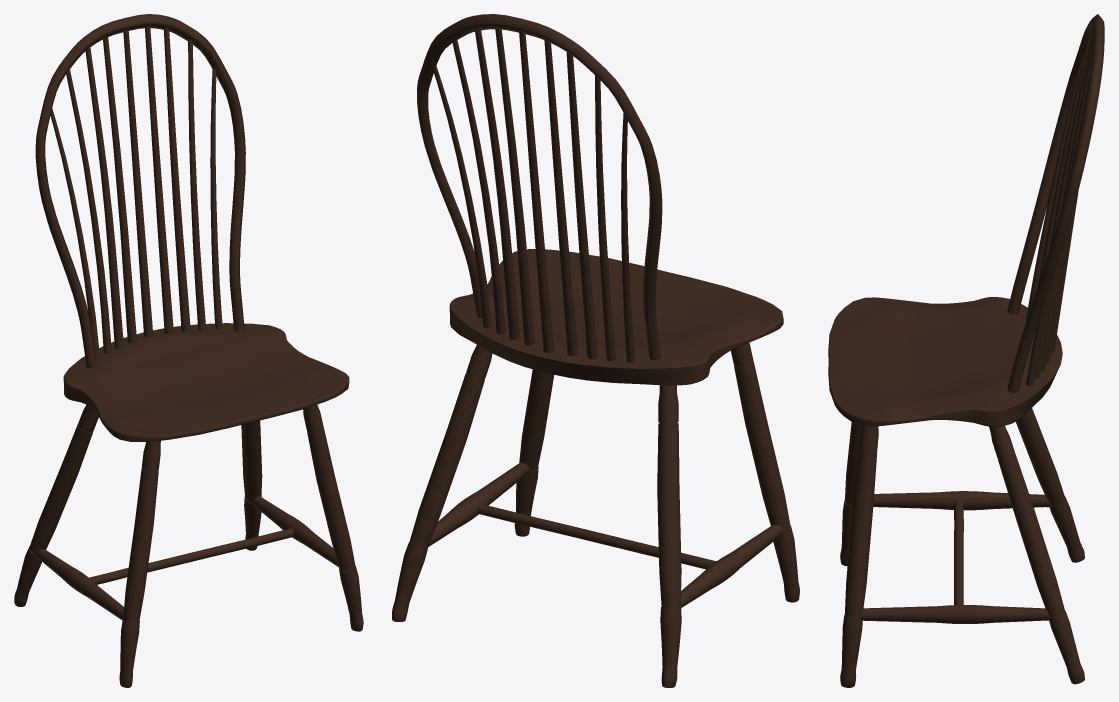
File: eskitipsandalye.fbx
The picture shows the model from 3 angles, left to right: view 1: azimuth 30°, elevation 25°; view 2: azimuth 150°, elevation 25°; view 3: azimuth 270°, elevation 25°; orthographic projection. The views are drawn at different scales.
Visible parts, largest first — view 1: Object_4; view 2: Object_4; view 3: Object_4.
Part boxes in pixels (x1,y1,x2,y2): Object_4: [14, 14, 363, 687]; Object_4: [392, 14, 799, 687]; Object_4: [828, 14, 1104, 687].
Bounding box in the file's own units: 49.37 × 108 × 45.22.
